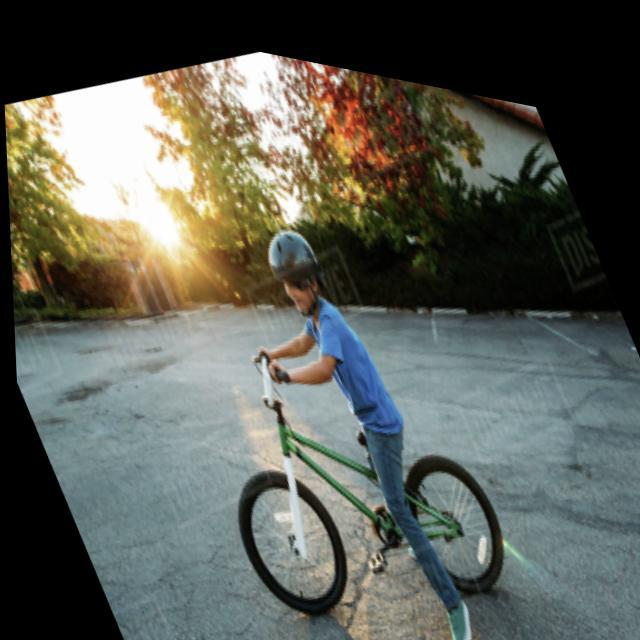Helmet: (260, 222, 330, 325)
